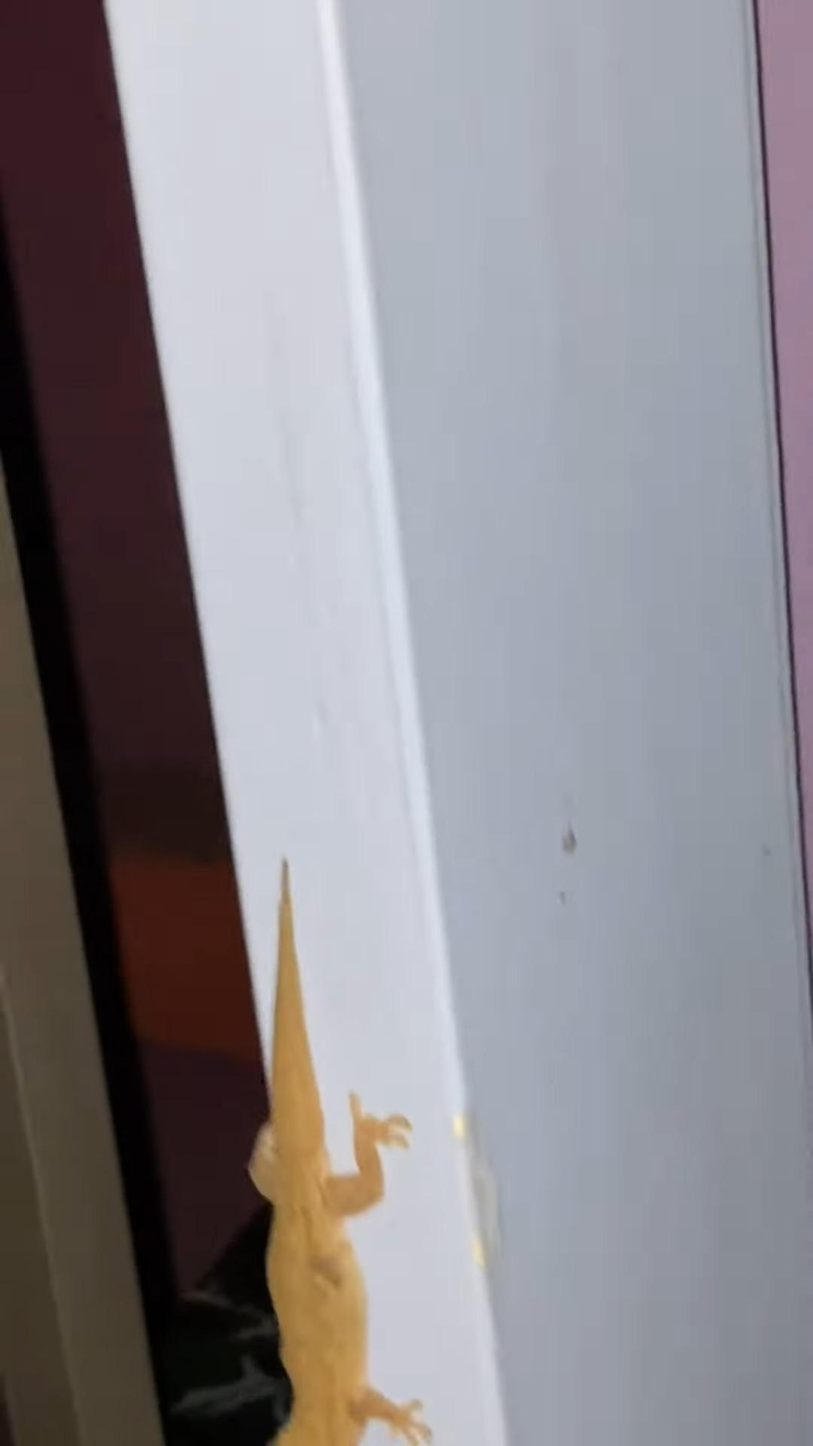lizard: (215, 859, 432, 1446)
